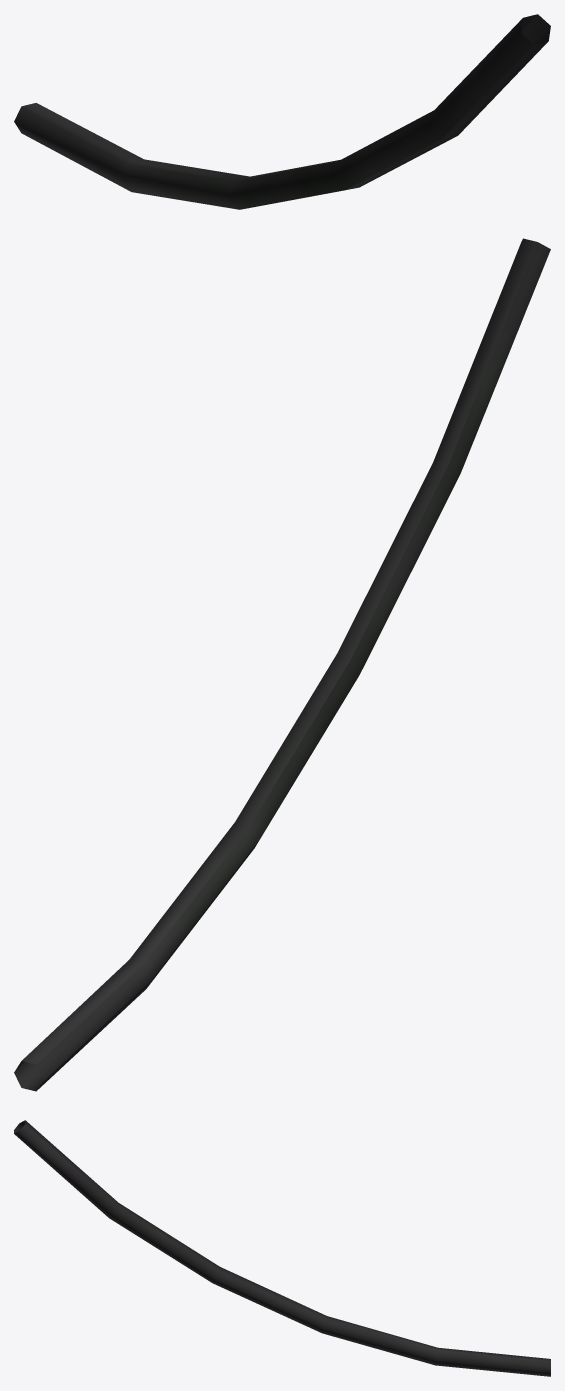
Rendered from electrical_bend_angled_medium.dae.
3 renders of one model, top to bottom at view 1: azimuth 30°, elevation 25°; view 2: azimuth 150°, elevation 25°; view 3: azimuth 270°, elevation 25°, orthographic. The views are drawn at different scales.
Visible parts, largest first — view 1: Mesh; view 2: Mesh; view 3: Mesh.
Boxes of the visible parts, x1,y1,x2,y2 form: Mesh: (14, 14, 550, 209); Mesh: (14, 238, 550, 1091); Mesh: (14, 1120, 550, 1376).
Size of the model in its own units: 0.017 by 0.2625 by 0.5052.
